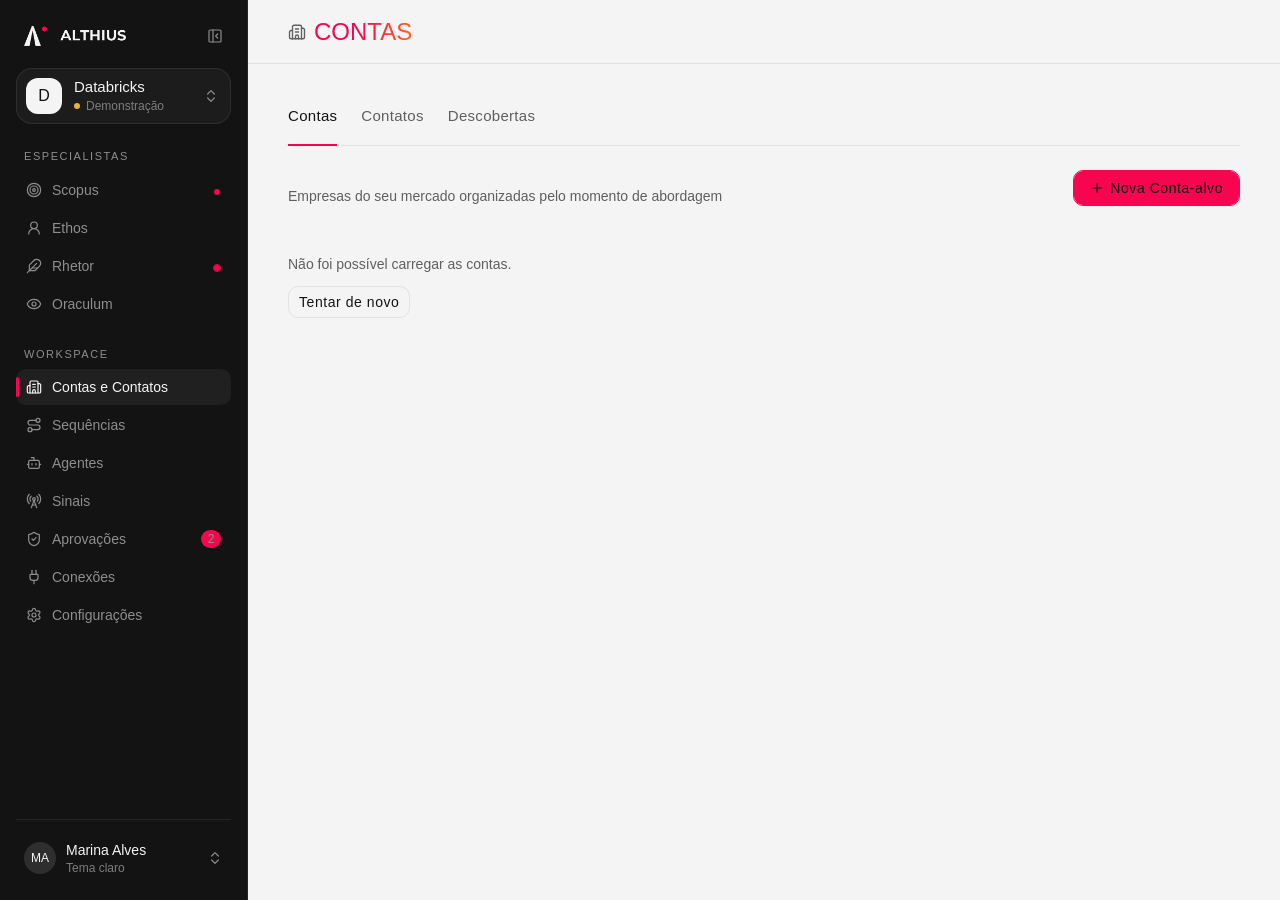
Test case: falha de leitura dos estágios mostra erro no Kanban em vez de Descoberta
The image size is (1280, 900).
Check: the message shows "Não foi possível carregar as contas.", box x1=288 y1=256 x2=511 y2=272
Click the button "Tentar de novo" at point(349, 302), box x1=288 y1=286 x2=410 y2=318
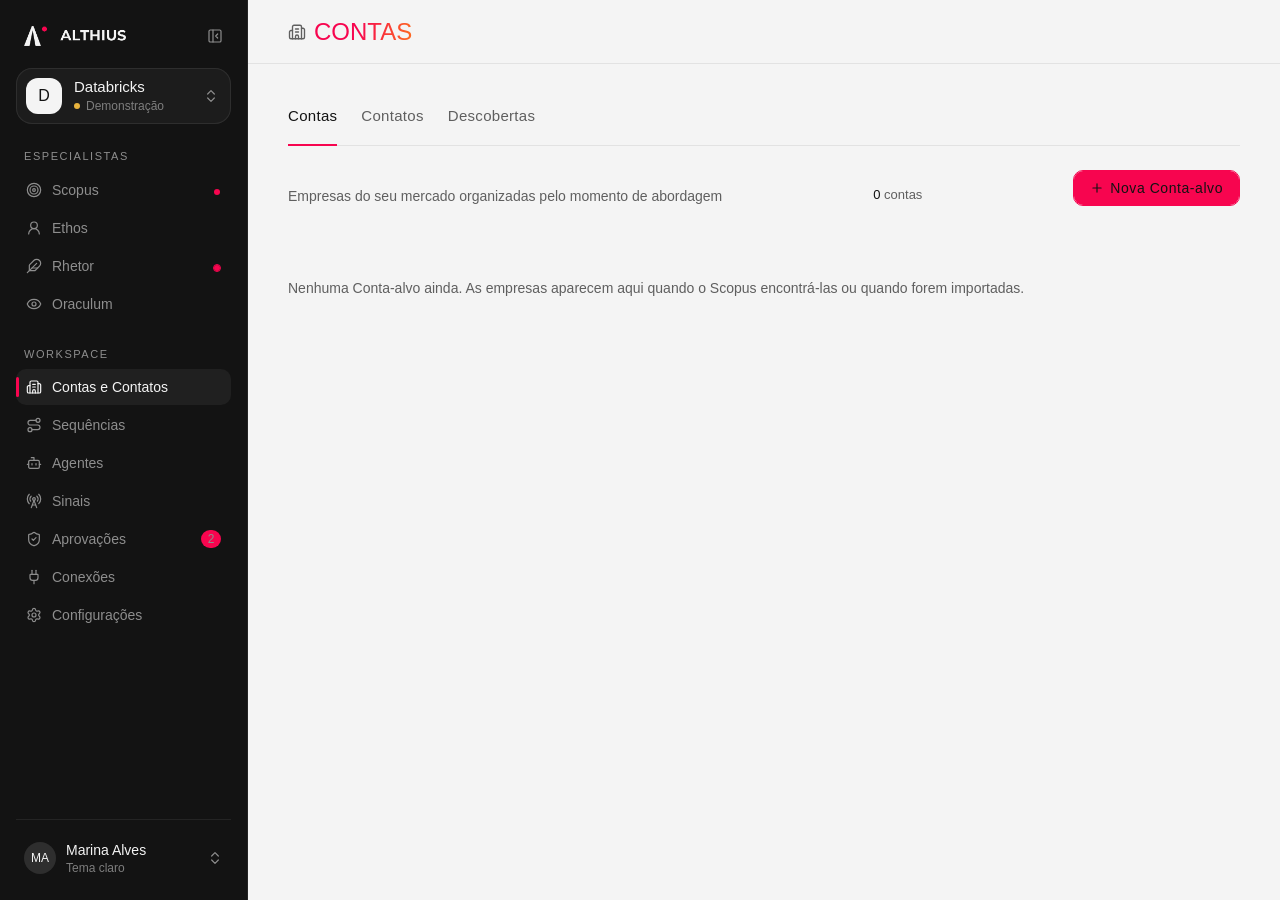
Check: the text "Nenhuma Conta-alvo ainda" is shown, box x1=288 y1=280 x2=1024 y2=296
Check: the message "Não foi possível carregar as contas. Tentar de novo" is gone
